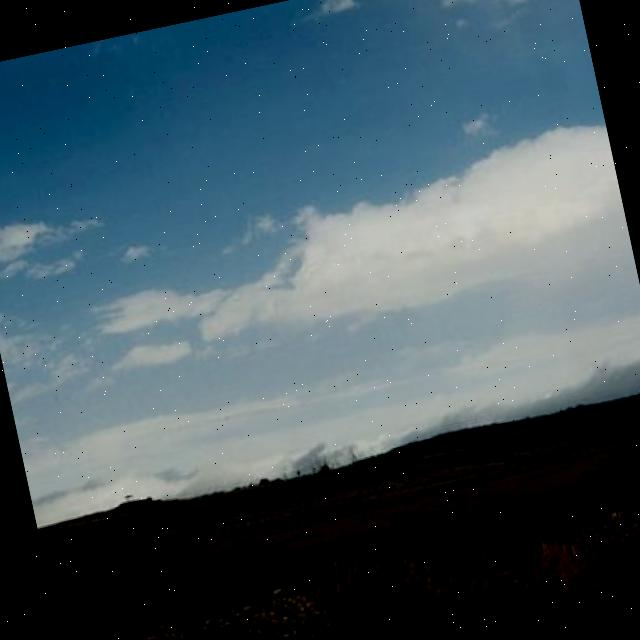St: (3, 84, 640, 469)
